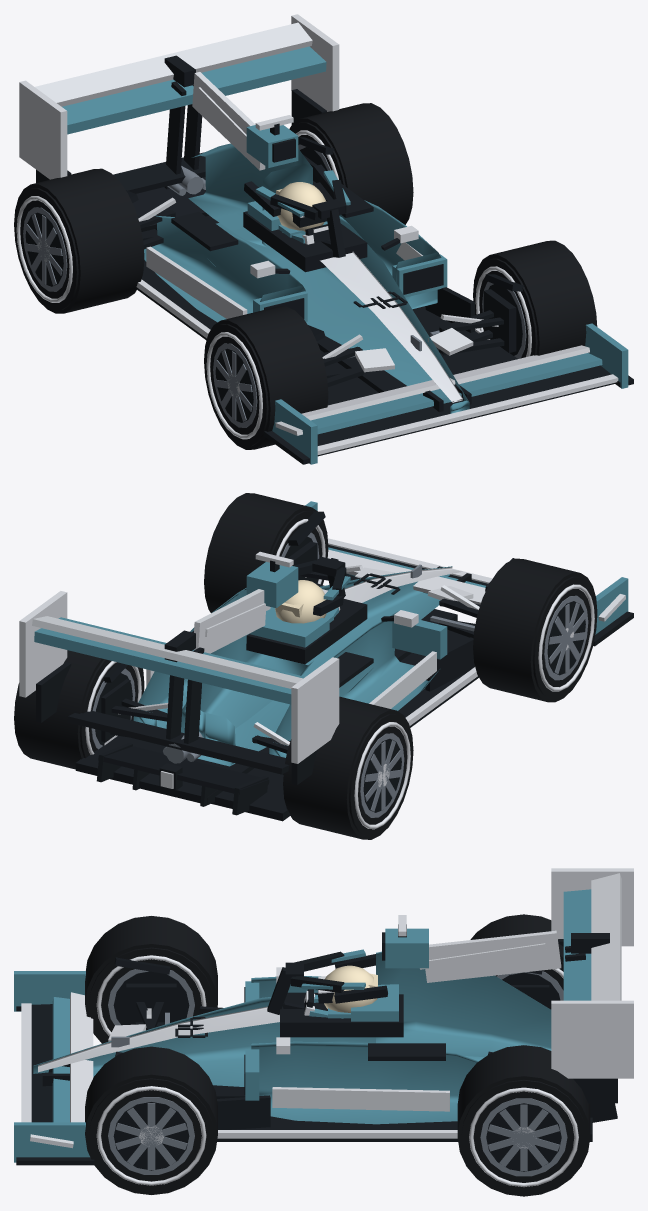
The model's file is tempest-48.glb.
3 views of the same model, one above another, from view 1: azimuth 30°, elevation 25°; view 2: azimuth 150°, elevation 25°; view 3: azimuth 270°, elevation 25° (orthographic).
Parts seen in each view (by area): view 1: formula-48, wheel (×4); view 2: formula-48, wheel (×4); view 3: formula-48, wheel (×4).
Part boxes in pixels (x1,y1,x2,y2): formula-48: (19, 14, 633, 464); wheel (×4): (14, 103, 597, 449); formula-48: (19, 501, 633, 821); wheel (×4): (14, 493, 597, 839); formula-48: (14, 868, 633, 1165); wheel (×4): (85, 914, 590, 1196).
Size of the model in its own units: 3.41 by 1.85 by 5.41.
